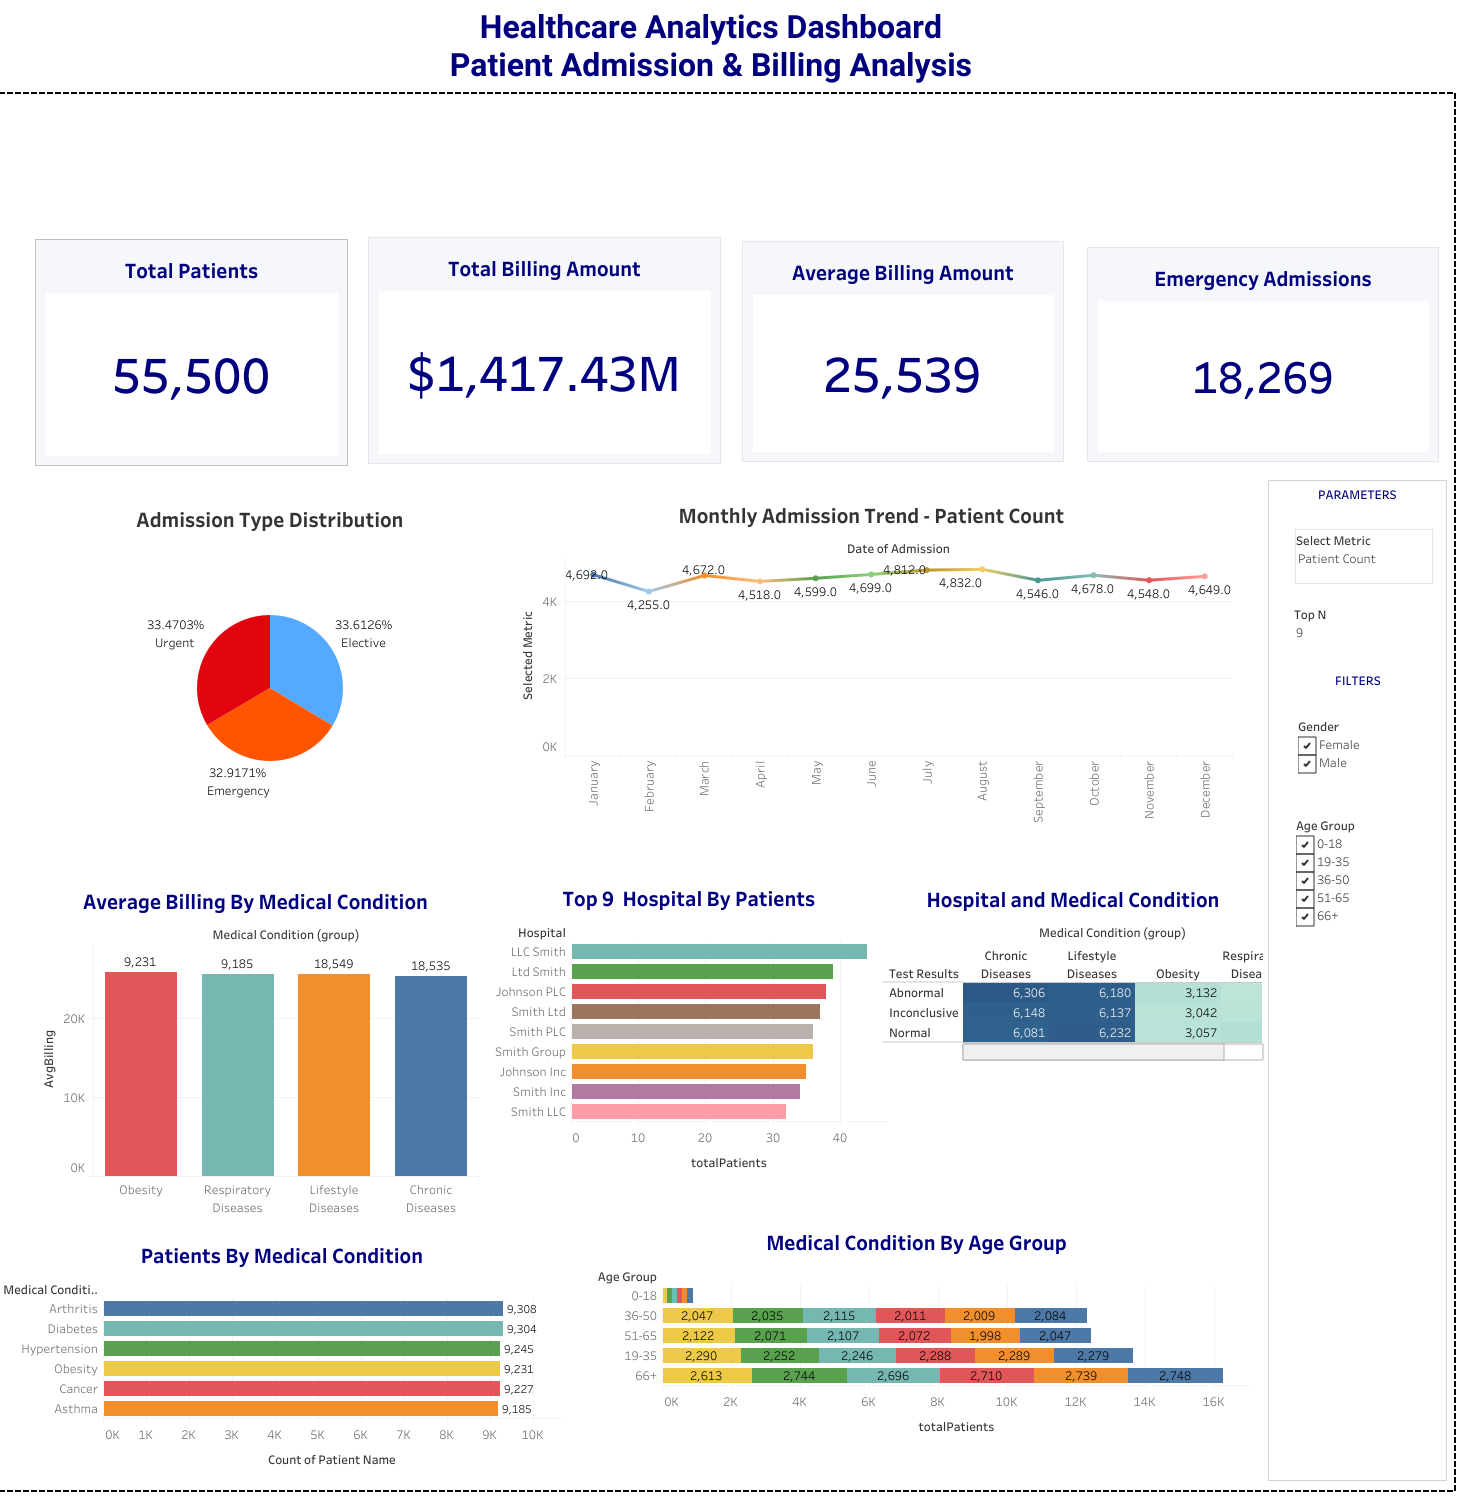

Layout of this report page (visuals, bound fields, positions):
{"tool":"tableau","page":{"name":"Dashboard 1","canvas":[1000,1000],"units":"permille","ordinal":0},"visuals":[{"type":"worksheet","title":"TotalBilling","mark":"Automatic","box":[246,152.3,251.8,161.5]},{"type":"worksheet","title":"TotalPatients","mark":"Automatic","box":[18.3,153.7,224.7,161.5]},{"type":"worksheet","title":"AverageBilling","mark":"Automatic","box":[500.7,155,231.3,157.6]},{"type":"worksheet","title":"EmAdm","mark":"Automatic","box":[736.5,158.8,251.1,153.7]},{"type":"text","box":[865.9,319.8,121.2,16.6]},{"type":"worksheet","title":"MAdmsn","mark":"Line","rows":["Calculation_656399676274958338"],"cols":["Date of Admission"],"box":[349.1,329.1,492,226.1]},{"type":"worksheet","title":"AdmtypeDis","mark":"Pie","box":[21.3,331.8,326.1,222.7]},{"type":"parameter","param":"[Parameters].[Parameter 1]","box":[883.6,351.7,94.5,36.6]},{"type":"parameter","param":"[Parameters].[Parameter 2]","box":[883.1,401.6,94.5,29.3]},{"type":"text","box":[893.1,442.2,67.9,19.9]},{"type":"filter","title":"PatientByMed","param":"[federated.0qp5bag0dv22er1c4h0zm0ggl1z2].[none:Gender:nk]","box":[886,476.1,94.5,53.9]},{"type":"filter","title":"HosxMed","param":"[federated.0qp5bag0dv22er1c4h0zm0ggl1z2].[none:Calculation_656399676272508929:nk","box":[884.8,541.9,94.5,91.8]},{"type":"worksheet","title":"Patients/Hospital","mark":"Automatic","rows":["Hospital"],"cols":["Calculation_810929438171152384"],"box":[334.9,583.8,270.5,208.1]},{"type":"worksheet","title":"HosxMed","mark":"Square","rows":["Test Results"],"box":[602.5,584.4,259.9,126.3]},{"type":"worksheet","title":"AvgBillingMed","mark":"Automatic","rows":["Calculation_810929438465298434"],"box":[21.9,585.8,305.4,222.7]},{"type":"worksheet","title":"AgeGrp","mark":"Automatic","rows":["Calculation_656399676272508929"],"cols":["Calculation_810929438171152384"],"box":[397.5,812.5,456.6,168.9]},{"type":"worksheet","title":"PatientByMed","mark":"Automatic","rows":["Medical Condition"],"cols":["Patient Name"],"box":[2.4,821.1,380.4,162.9]}]}

Visuals, with their boxes on the dashboard's canvas, which has no fixed pixel size, in thousandths of its width and height (x1, y1, x2, y2). These are canvas units, not pixel positions in the 1464x1503 screenshot, which may show the page scaled, cropped or inside an application window:
"TotalBilling" worksheet: bbox(246, 152, 498, 314)
"TotalPatients" worksheet: bbox(18, 154, 243, 315)
"AverageBilling" worksheet: bbox(501, 155, 732, 313)
"EmAdm" worksheet: bbox(736, 159, 988, 312)
text: bbox(866, 320, 987, 336)
"MAdmsn" worksheet (Line marks): bbox(349, 329, 841, 555)
"AdmtypeDis" worksheet (Pie marks): bbox(21, 332, 347, 554)
parameter: bbox(884, 352, 978, 388)
parameter: bbox(883, 402, 978, 431)
text: bbox(893, 442, 961, 462)
"PatientByMed" filter: bbox(886, 476, 980, 530)
"HosxMed" filter: bbox(885, 542, 979, 634)
"Patients/Hospital" worksheet: bbox(335, 584, 605, 792)
"HosxMed" worksheet (Square marks): bbox(602, 584, 862, 711)
"AvgBillingMed" worksheet: bbox(22, 586, 327, 808)
"AgeGrp" worksheet: bbox(398, 812, 854, 981)
"PatientByMed" worksheet: bbox(2, 821, 383, 984)
